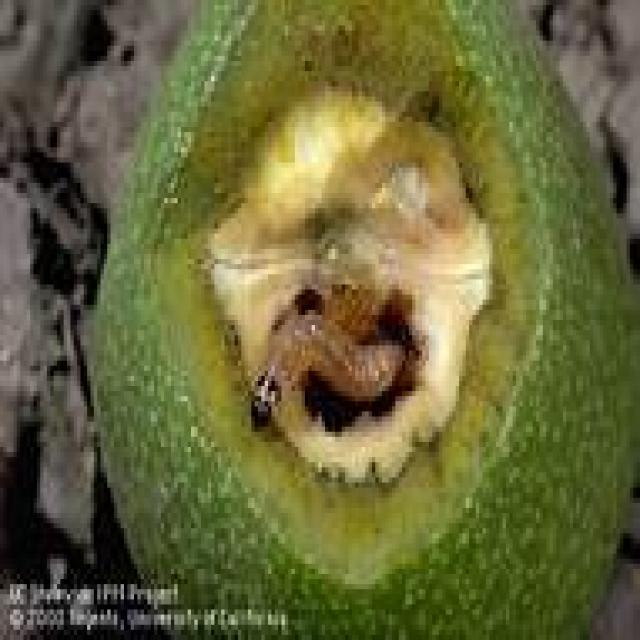Anthracnose: (97, 0, 633, 635)
